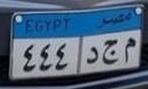4: (23, 42, 37, 73), (55, 43, 69, 73), (39, 42, 53, 72)
daal: (85, 46, 99, 64)
jeem: (102, 38, 119, 65)
meem: (124, 37, 136, 64)
